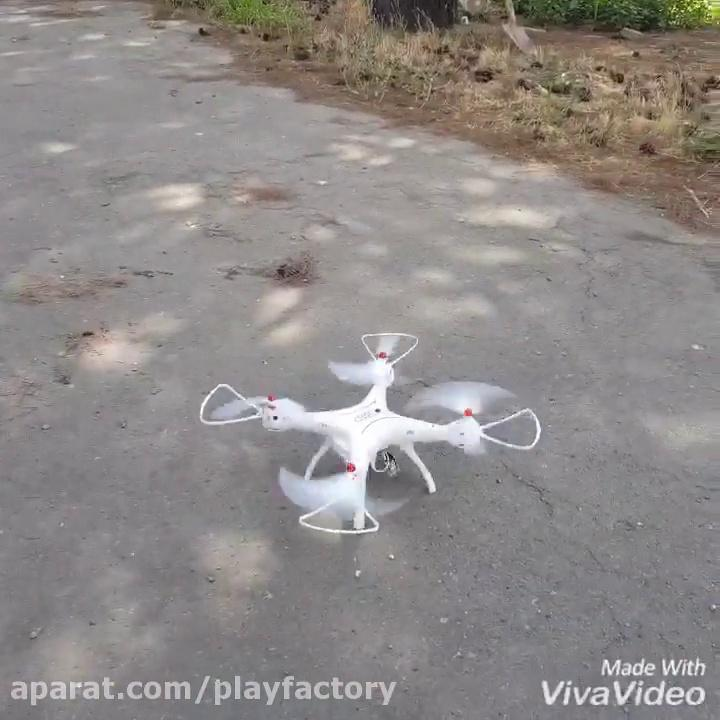drone: (196, 330, 542, 539)
